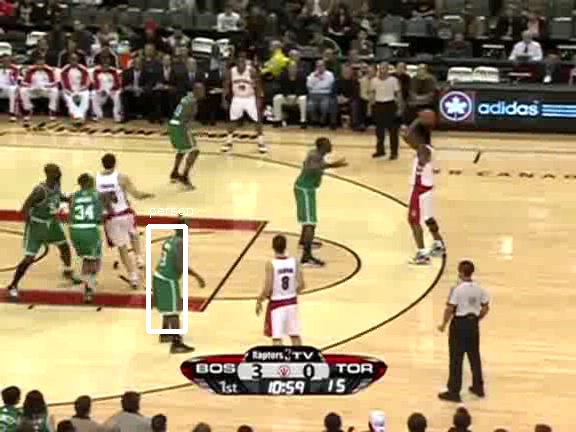person: (154, 236, 188, 317), (153, 236, 187, 317), (155, 236, 189, 317), (154, 235, 188, 316), (154, 237, 188, 318)
target_negative: (203, 95, 332, 393), (342, 131, 570, 268), (326, 203, 531, 296), (357, 341, 531, 403), (166, 101, 215, 317), (246, 277, 468, 324)
